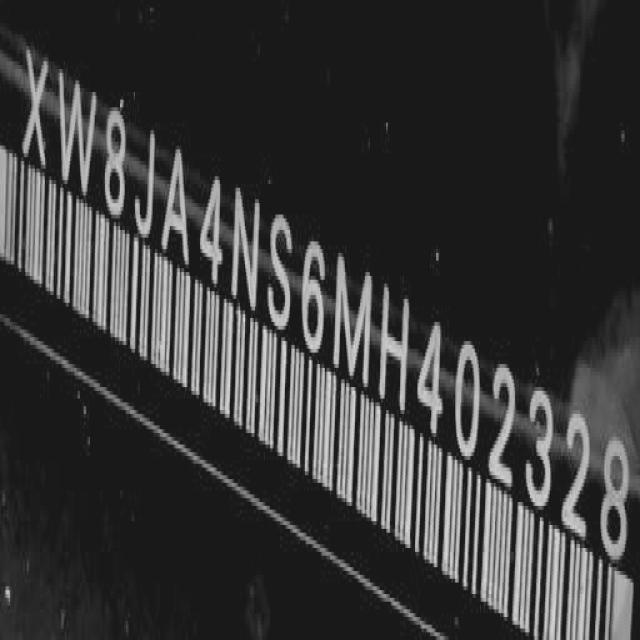0: (454, 336, 480, 464)
2: (562, 402, 594, 550), (489, 356, 516, 487)
3: (525, 391, 554, 508)
4: (196, 167, 228, 284), (418, 311, 444, 439)
6: (297, 231, 324, 353)
8: (603, 430, 628, 570), (105, 111, 126, 222)
A: (161, 147, 192, 270)
H: (377, 280, 411, 418)
J: (134, 133, 158, 242)
M: (334, 256, 372, 391)
N: (229, 193, 262, 313)
S: (265, 214, 294, 334)
W: (58, 70, 96, 208)
X: (22, 44, 50, 179)
